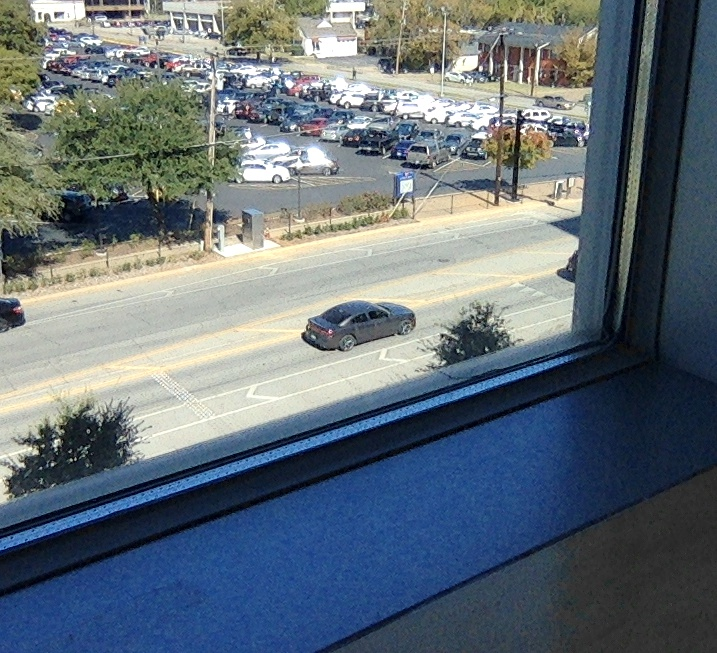car: (300, 300, 417, 353)
